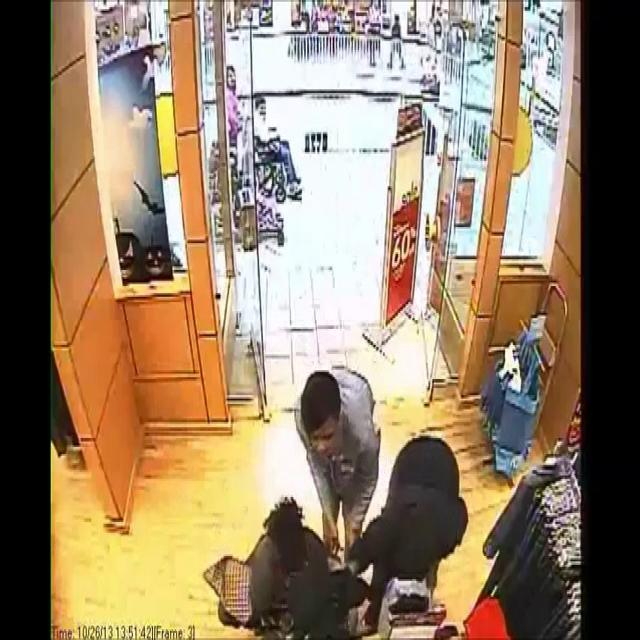normal: (208, 438, 344, 640), (354, 426, 471, 640), (282, 331, 376, 487)
